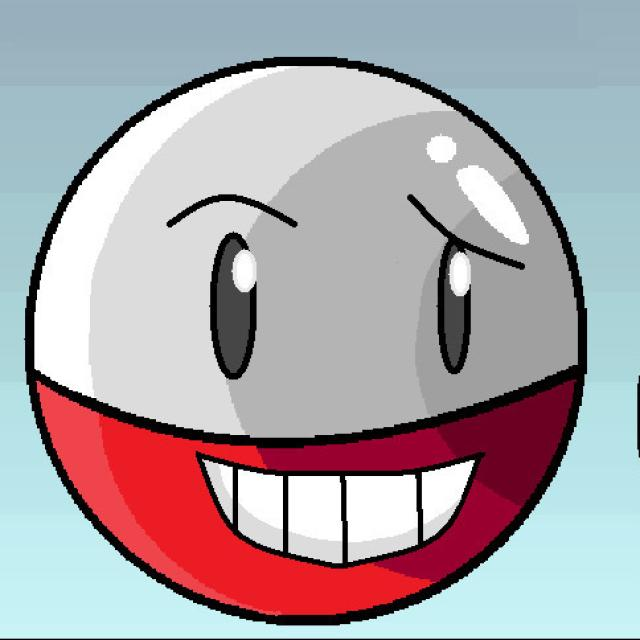Electrode: (20, 42, 597, 625)
